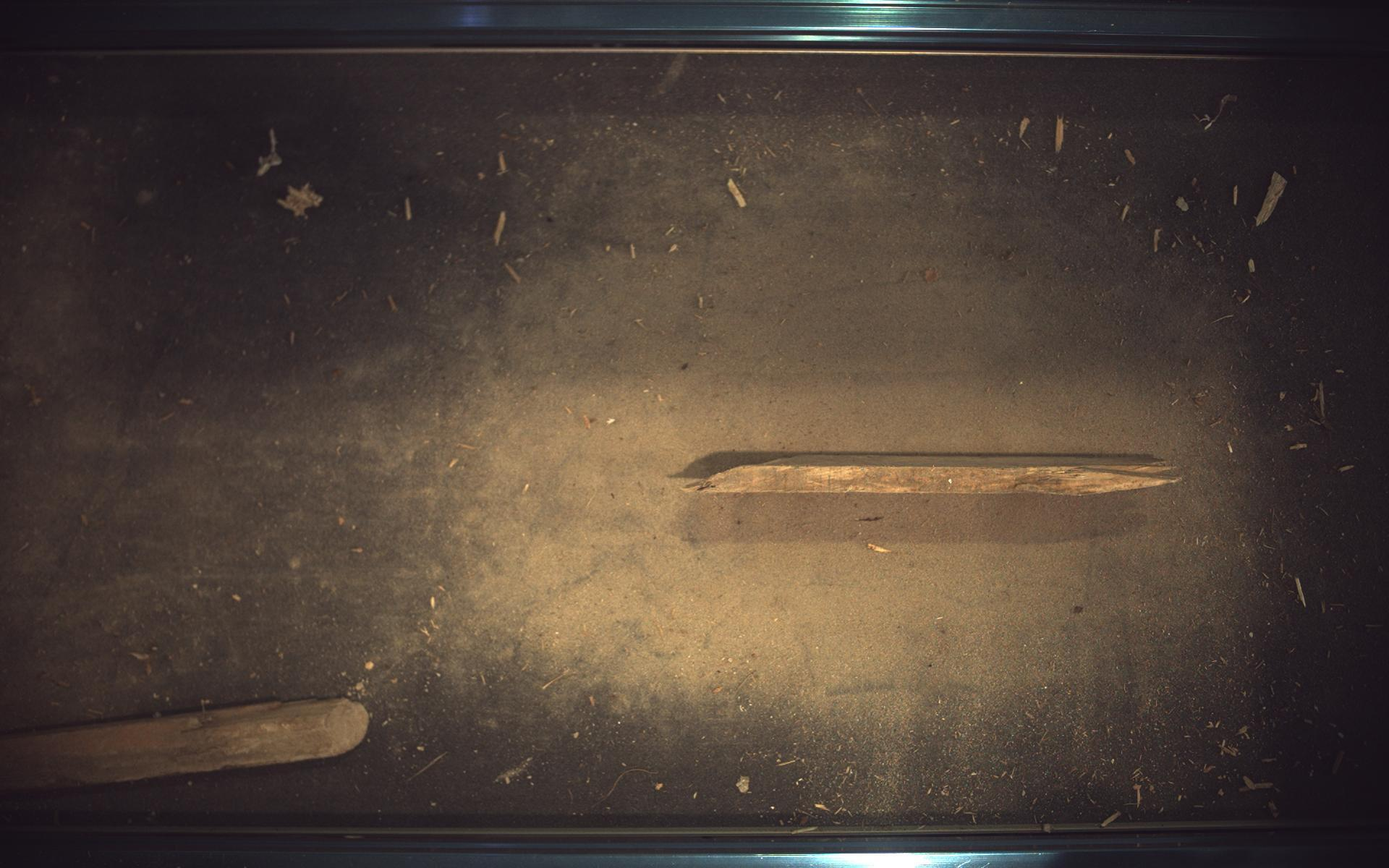wood: (1, 699, 369, 793), (687, 456, 1181, 495)
